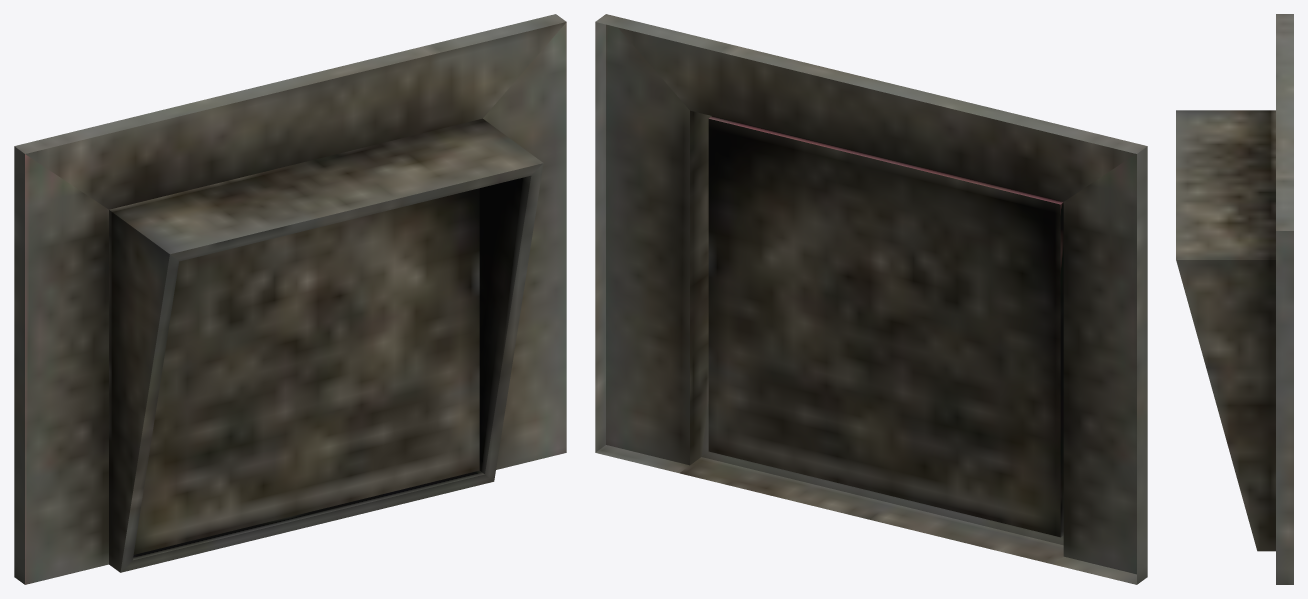
The model's file is Vent_01.FBX.
3 renders of one model, left to right at view 1: azimuth 30°, elevation 25°; view 2: azimuth 150°, elevation 25°; view 3: azimuth 270°, elevation 25°, orthographic. The views are drawn at different scales.
Visible parts, largest first — view 1: Vent_01; view 2: Vent_01; view 3: Vent_01.
Part boxes in pixels (x1,y1,x2,y2): Vent_01: (14,14,566,584); Vent_01: (595,14,1147,584); Vent_01: (1176,14,1293,584).
Size of the model in its own units: 103 by 78.62 by 23.72.
